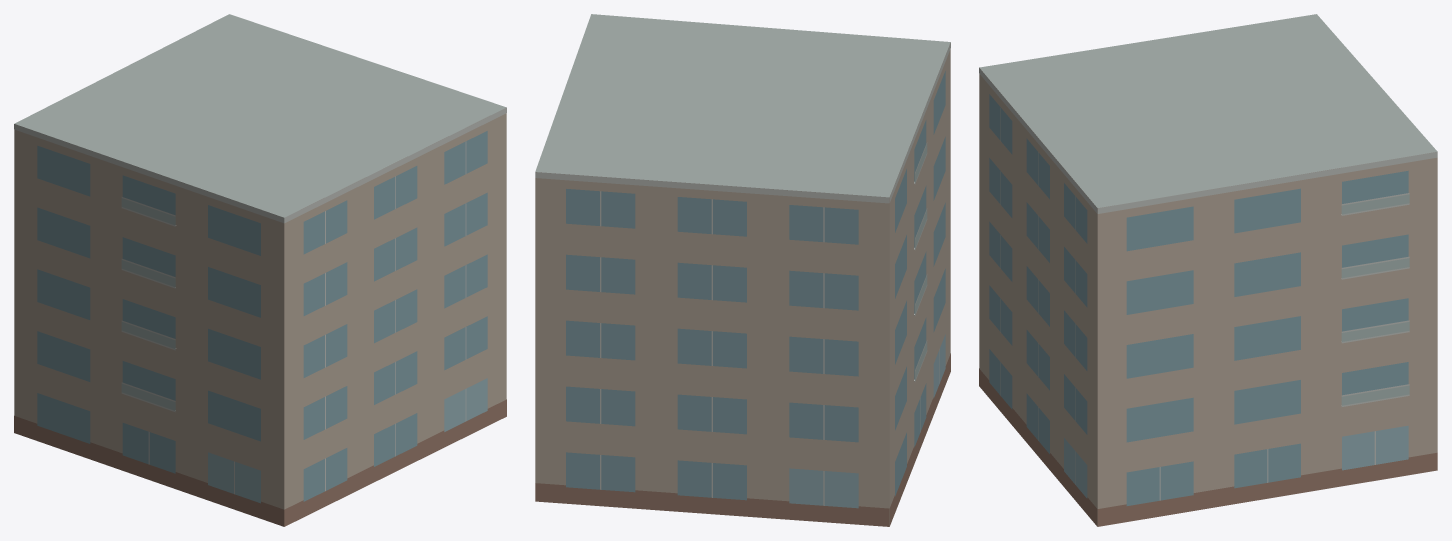
Rendered from survey-upis-32863194.glb.
3 renders of one model, left to right at view 1: azimuth 30°, elevation 25°; view 2: azimuth 150°, elevation 25°; view 3: azimuth 270°, elevation 25°, orthographic. The views are drawn at different scales.
Visible parts, largest first — view 1: survey-upis-32863194.tmp; view 2: survey-upis-32863194.tmp; view 3: survey-upis-32863194.tmp.
Boxes of the visible parts, <box> form: survey-upis-32863194.tmp: <box>14,14,506,526</box>; survey-upis-32863194.tmp: <box>535,14,950,526</box>; survey-upis-32863194.tmp: <box>979,14,1437,526</box>.
Bounding box in the file's own units: 17.33 × 13.25 × 17.29.
